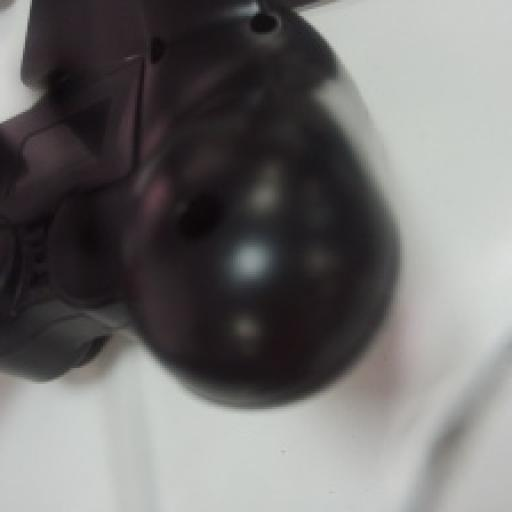game pad: (0, 0, 395, 405)
